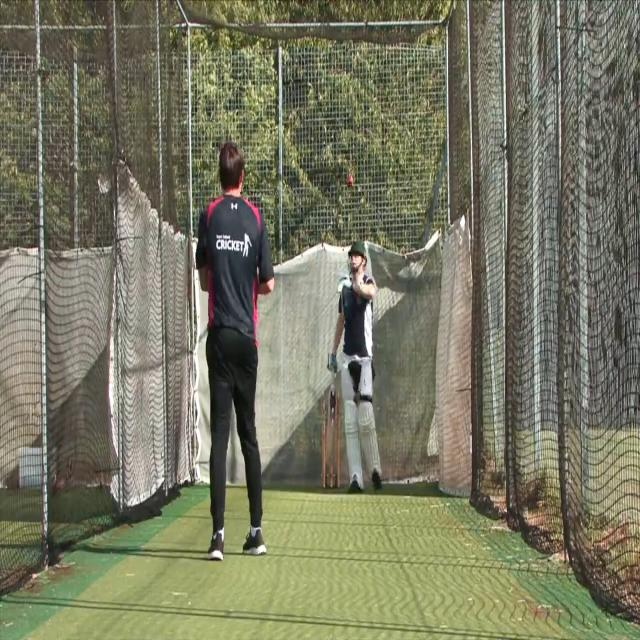batsman: (324, 238, 384, 496)
